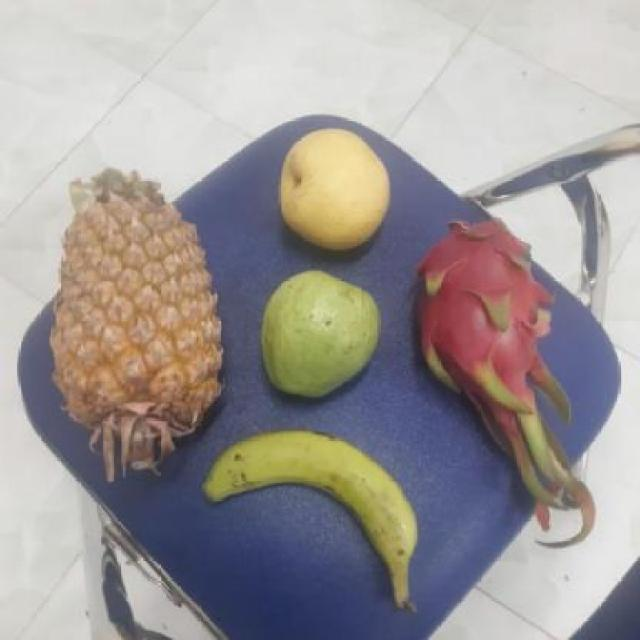banana: (218, 432, 432, 580)
dragon fruit: (409, 217, 560, 408)
guava: (261, 274, 388, 398)
pear: (275, 131, 396, 251)
pineapple: (50, 172, 222, 470)
